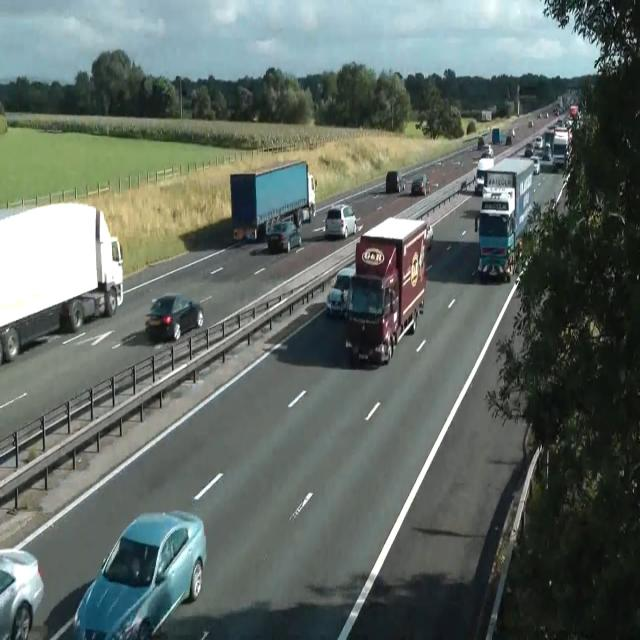bus: (73, 509, 207, 639), (0, 547, 44, 639), (144, 292, 204, 342), (325, 267, 355, 319), (323, 203, 357, 238), (267, 220, 301, 253), (410, 173, 430, 196), (265, 215, 280, 235), (474, 168, 484, 194), (425, 222, 433, 251), (530, 156, 540, 174), (534, 134, 544, 150), (481, 144, 493, 157), (570, 104, 578, 118), (524, 144, 533, 156), (553, 106, 559, 115), (528, 119, 533, 127), (511, 128, 515, 137)
jeep: (474, 155, 494, 193), (386, 170, 404, 193)
minibus: (0, 200, 124, 364), (345, 216, 433, 365), (476, 156, 534, 282), (229, 159, 317, 242), (525, 125, 569, 173), (492, 126, 512, 146), (481, 109, 491, 122)
